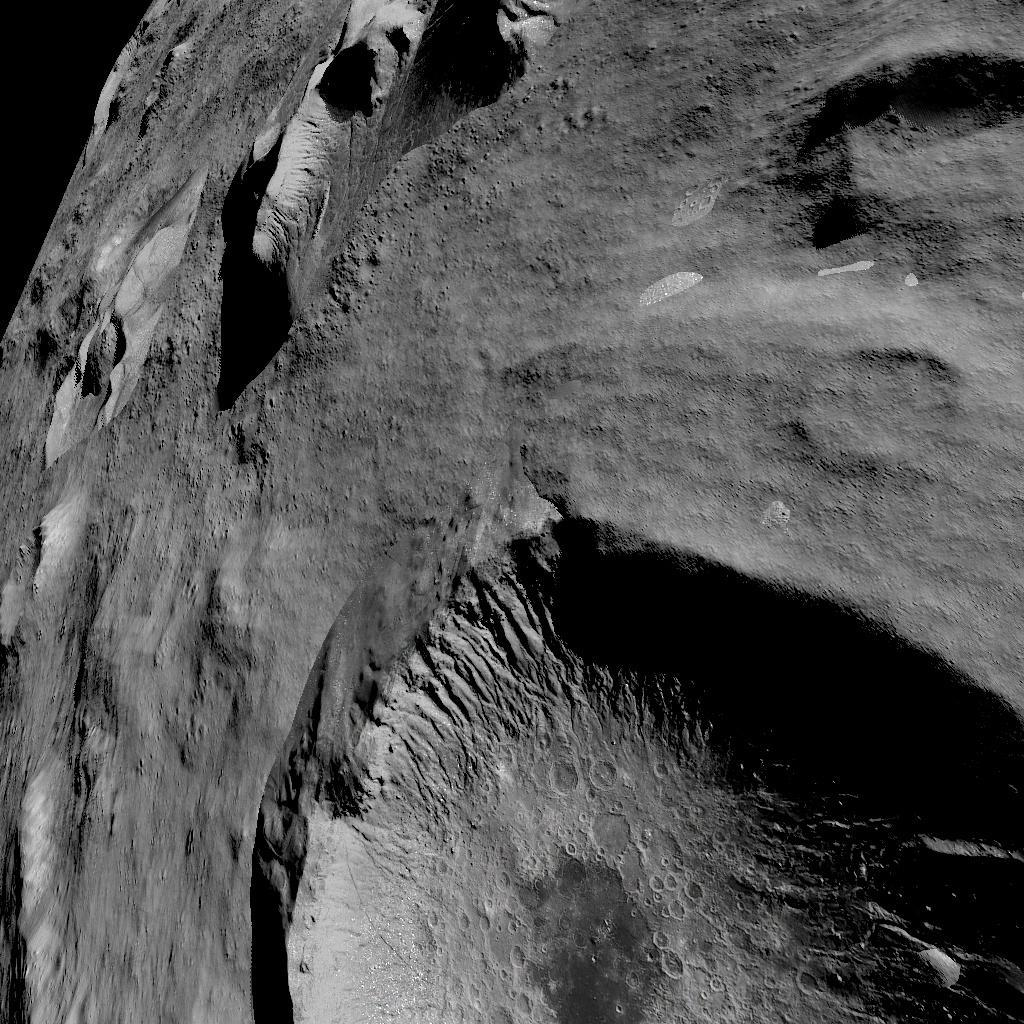Boulders: (217, 0, 554, 402), (30, 156, 202, 464)
Crater: (239, 512, 1024, 1024), (785, 26, 1024, 272), (791, 332, 961, 476)
Plan surface: (579, 0, 764, 500)
